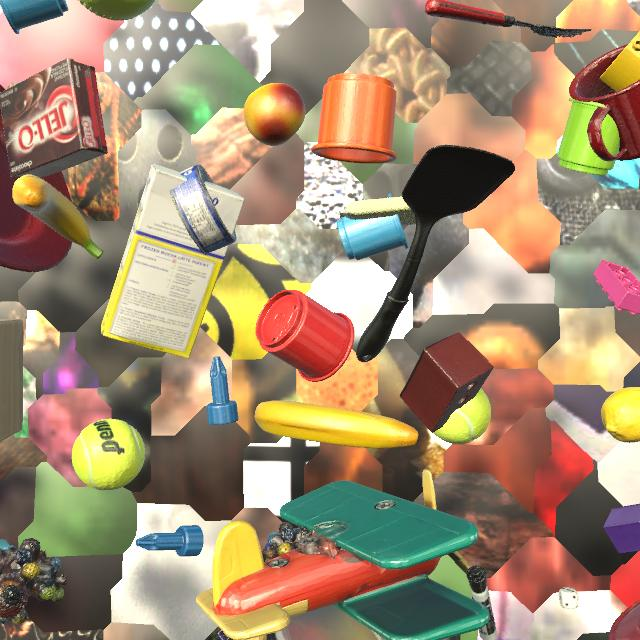ycb_004_sugar_box: (101, 163, 245, 358)
ycb_007_tuna_fish_can: (169, 164, 236, 255)
ycb_008_pudding_box: (0, 58, 108, 178)
ycb_011_banana: (255, 401, 418, 449), (12, 174, 103, 259)
ycb_014_lemon: (601, 387, 640, 443)
ycb_015_peach: (244, 83, 305, 146)
